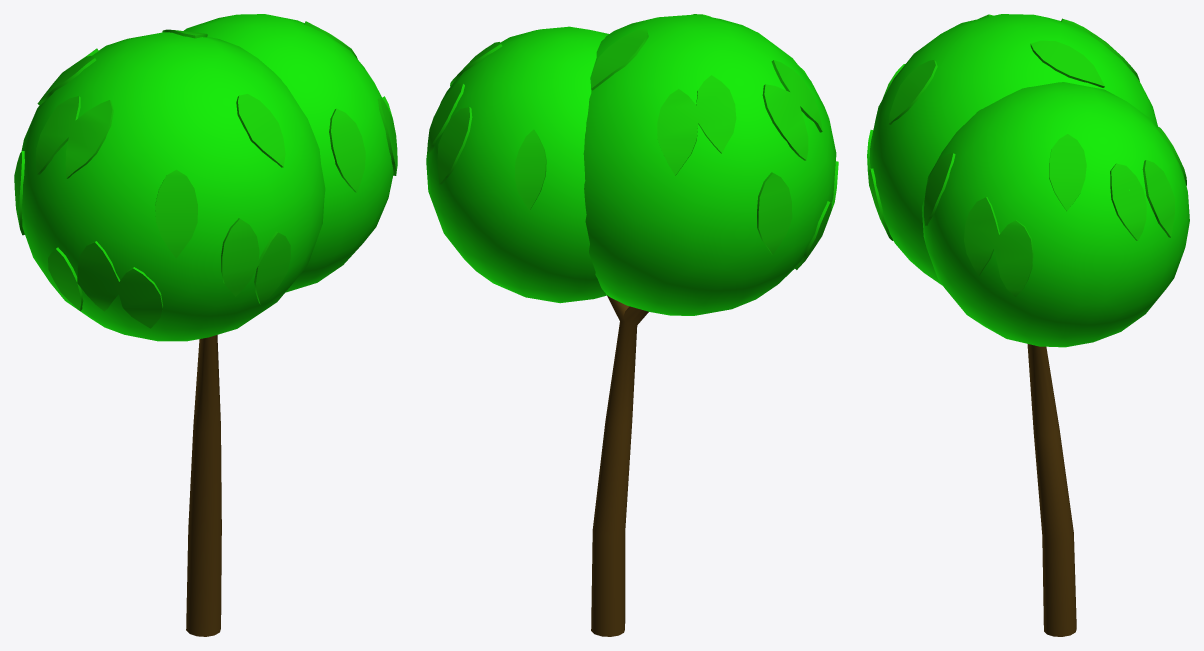
File: Apple_lvl1.fbx
The picture shows the model from 3 angles, left to right: view 1: azimuth 30°, elevation 25°; view 2: azimuth 150°, elevation 25°; view 3: azimuth 270°, elevation 25°; orthographic projection. The views are drawn at different scales.
Visible parts, largest first — view 1: Apple_tree_lvl1_LOD0; view 2: Apple_tree_lvl1_LOD0; view 3: Apple_tree_lvl1_LOD0.
Part boxes in pixels (left/top/right/bottom): Apple_tree_lvl1_LOD0: left=14, top=14, right=397, bottom=636; Apple_tree_lvl1_LOD0: left=426, top=14, right=838, bottom=636; Apple_tree_lvl1_LOD0: left=867, top=14, right=1189, bottom=636.
Size of what is drawn, in the model's own units: 68.61 by 56.57 by 112.
